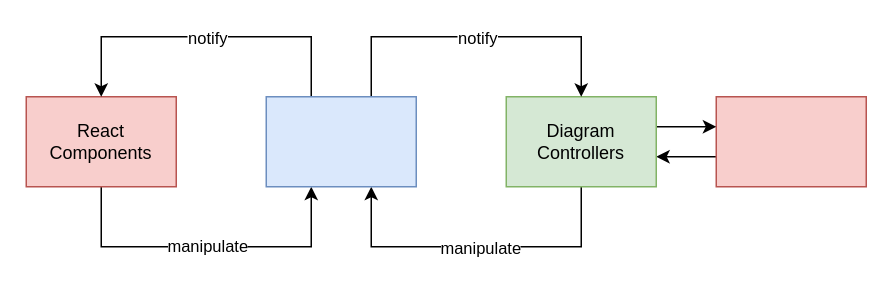
The diagram is 893 pixels wide and 285 high, and some of its shapes have lost their labels. The shapes that lost their labels are listed below. From the top down, each one's centre as x and y in pixels, then its label:
pixel 340 141: Models
pixel 790 141: fabric.js + Canvas
